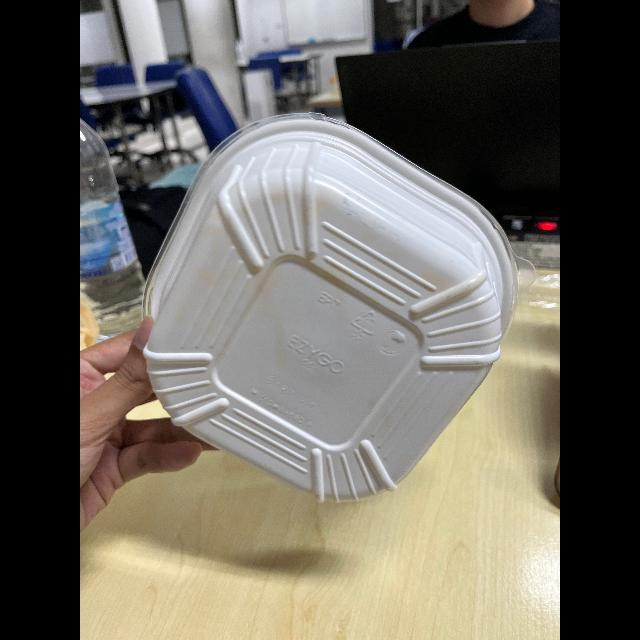plastic_box: (148, 114, 516, 498)
